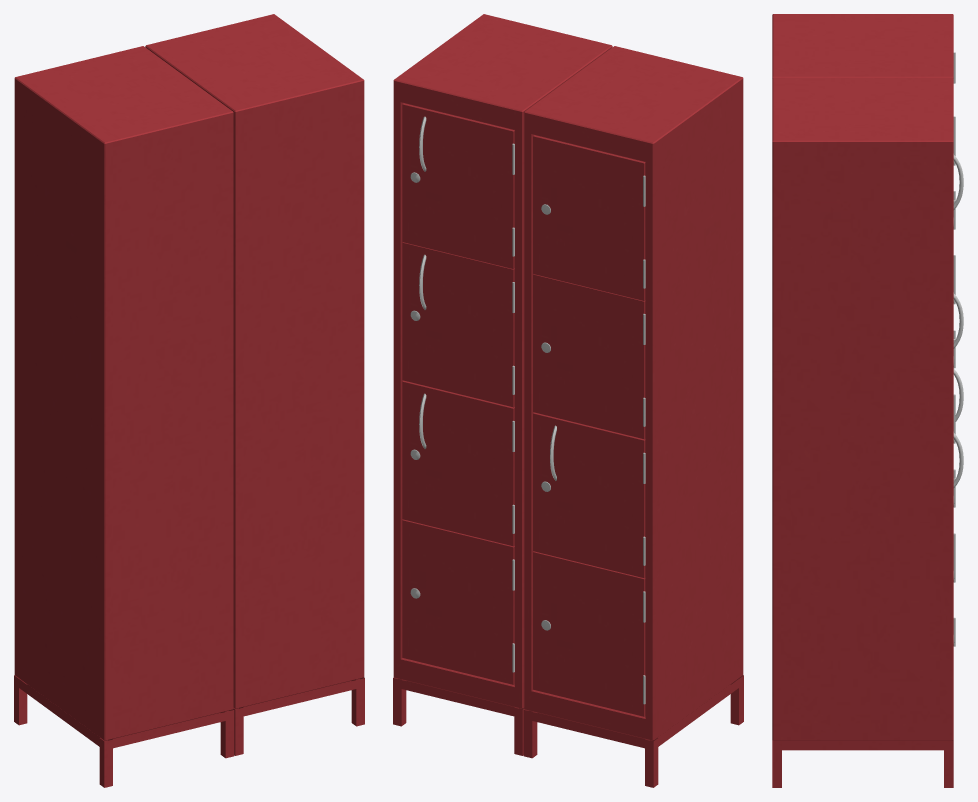
The model's file is Red_locker.dae.
3 renders of one model, left to right at view 1: azimuth 30°, elevation 25°; view 2: azimuth 150°, elevation 25°; view 3: azimuth 270°, elevation 25°, orthographic.
Parts seen in each view (by area): view 1: Locker_Red_center; view 2: Locker_Red_center; view 3: Locker_Red_center.
Part boxes in pixels (x1,y1,x2,y2): Locker_Red_center: [14, 14, 364, 787]; Locker_Red_center: [393, 14, 743, 787]; Locker_Red_center: [772, 14, 963, 787].
Bounding box in the file's own units: 0.7632 × 0.4844 × 1.8.
Materials: 4 (4 with a texture image).
